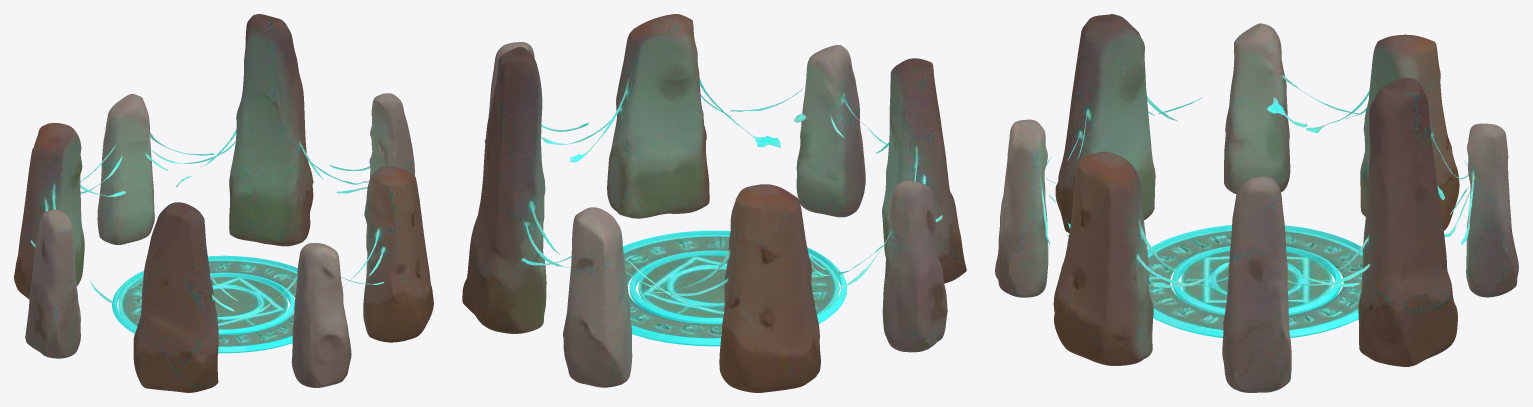
Rendered from sanctuary_base.glb.
The picture shows the model from 3 angles, left to right: view 1: azimuth 30°, elevation 25°; view 2: azimuth 150°, elevation 25°; view 3: azimuth 270°, elevation 25°; orthographic projection. The views are drawn at different scales.
Bounding box in the file's own units: 1.89 × 1.07 × 1.9.
Materials: 1 (1 with a texture image).
